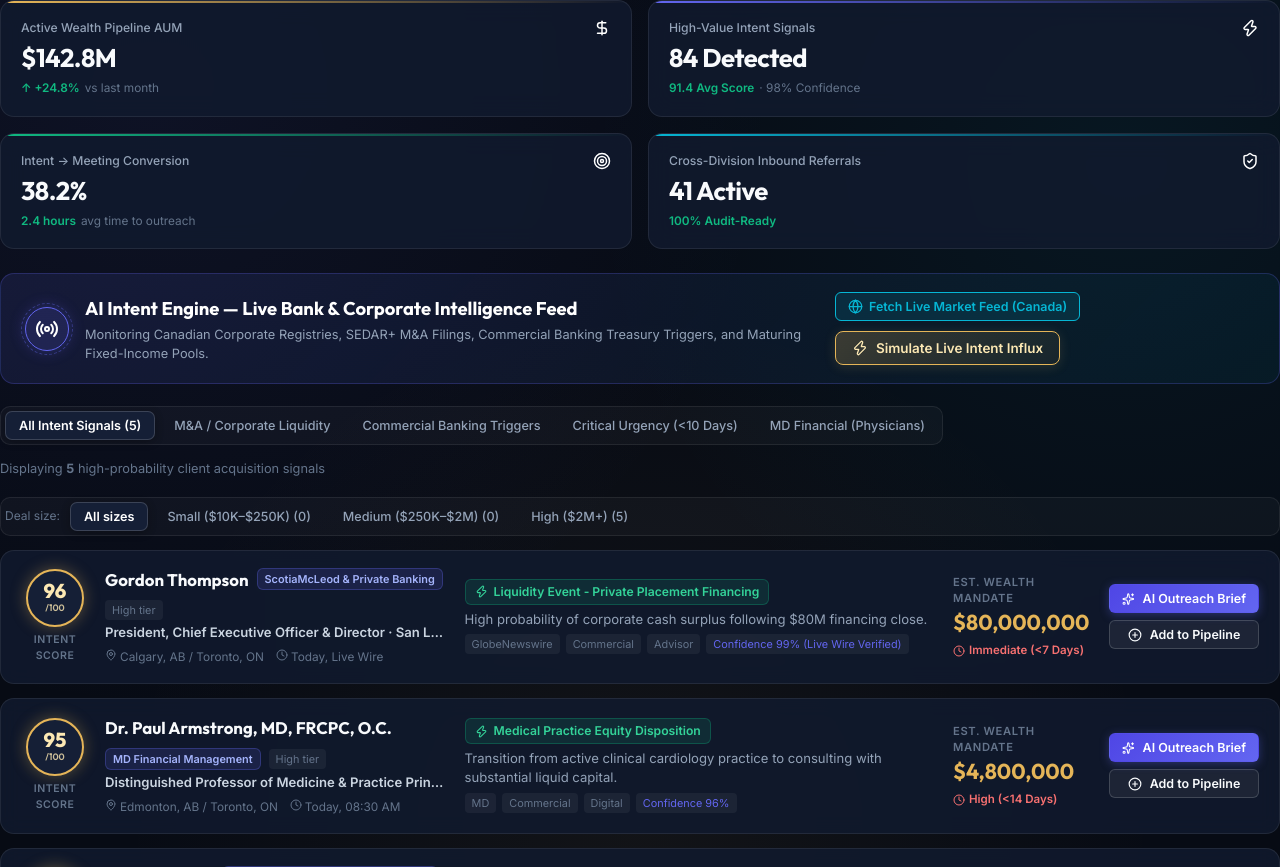
IntentEngineView Component › filters leads by MD Financial tab
The image size is (1280, 867).
Click the button "MD Financial (Physicians)": click(847, 426) [757, 412, 938, 439]
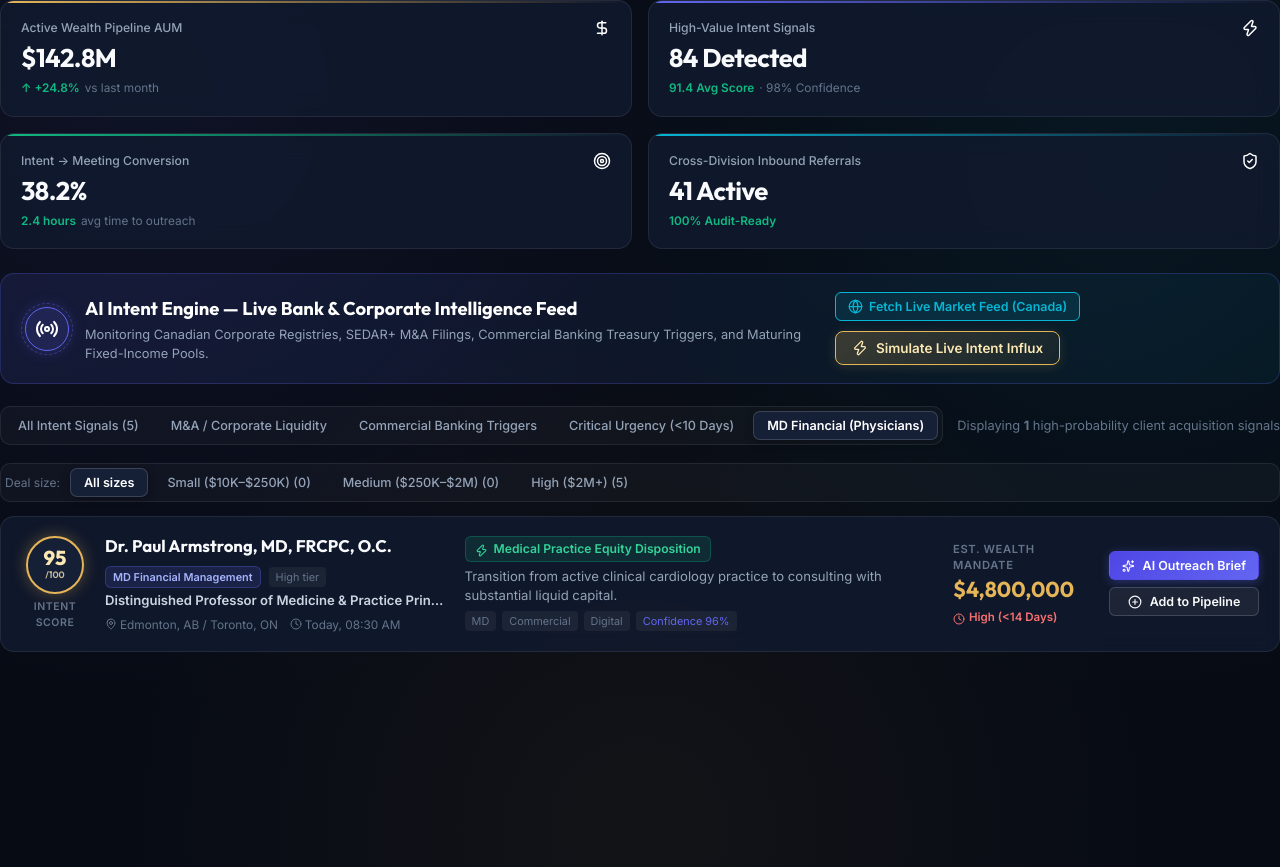
Expected: the text "Dr. Paul Armstrong, MD, FRCPC, O.C." is shown, [105, 533, 392, 559]
Expected: the text "Gordon Thompson" is gone
